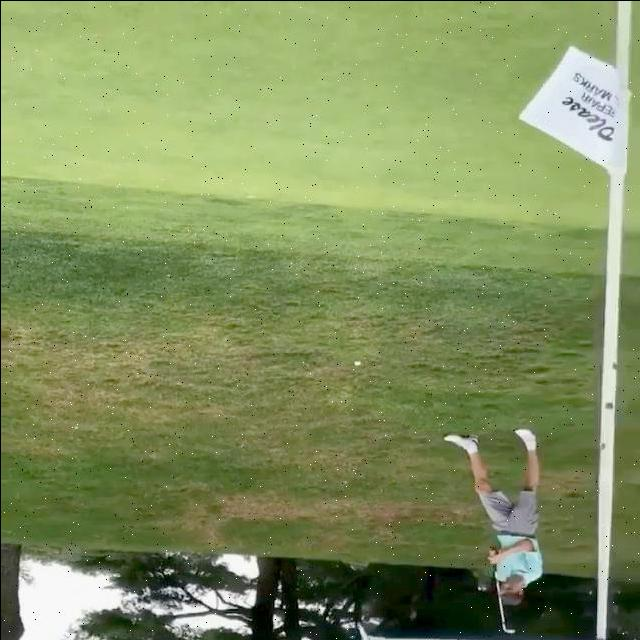ClubHandle: (493, 563, 514, 633)
ClubHead: (503, 627, 514, 633)
GolfBall: (353, 359, 361, 365)
